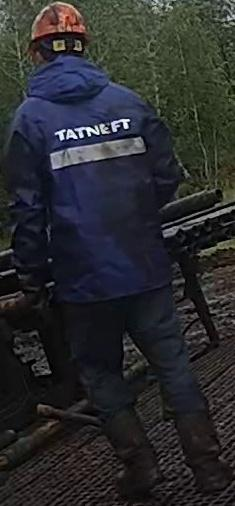gloves: (1, 283, 48, 329)
helmet: (27, 1, 89, 57)
vest: (8, 57, 184, 304)
